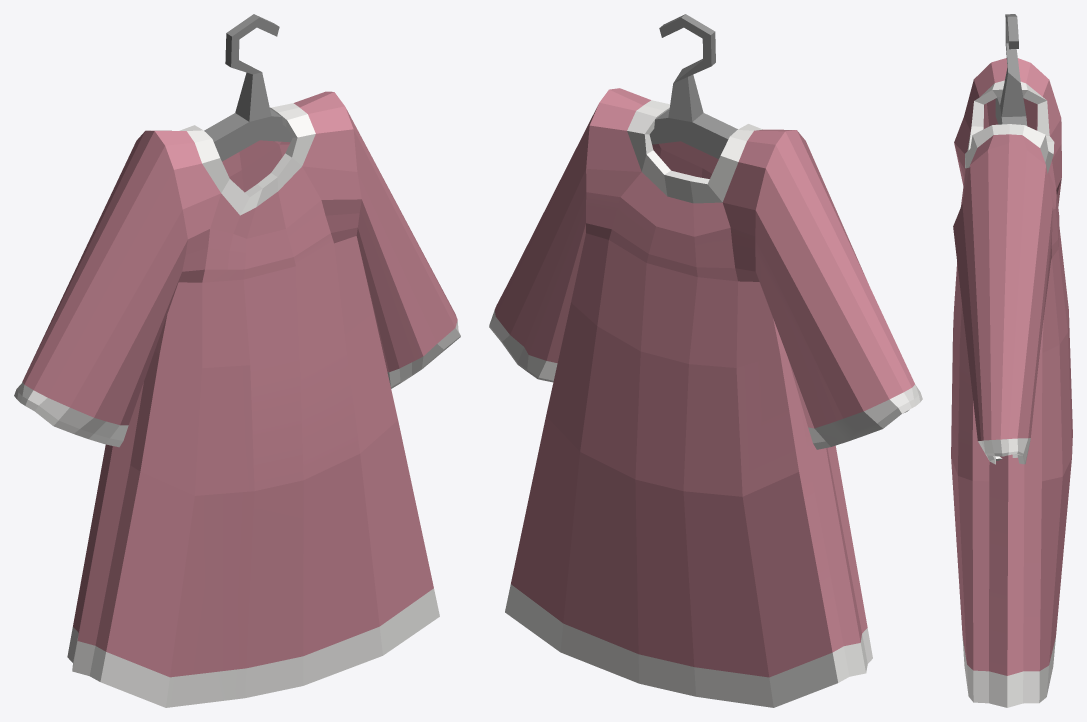
File: Dress_231109.glb
The picture shows the model from 3 angles, left to right: view 1: azimuth 30°, elevation 25°; view 2: azimuth 150°, elevation 25°; view 3: azimuth 270°, elevation 25°; orthographic projection. The views are drawn at different scales.
Parts seen in each view (by area): view 1: Dress; view 2: Dress; view 3: Dress.
Boxes of the visible parts, x1=… form: Dress: x1=14, y1=14, x2=460, y2=707; Dress: x1=489, y1=14, x2=922, y2=707; Dress: x1=951, y1=14, x2=1072, y2=707.
Bounding box in the file's own units: 0.6476 × 0.9487 × 0.1641.
Materials: 1 (1 with a texture image).
